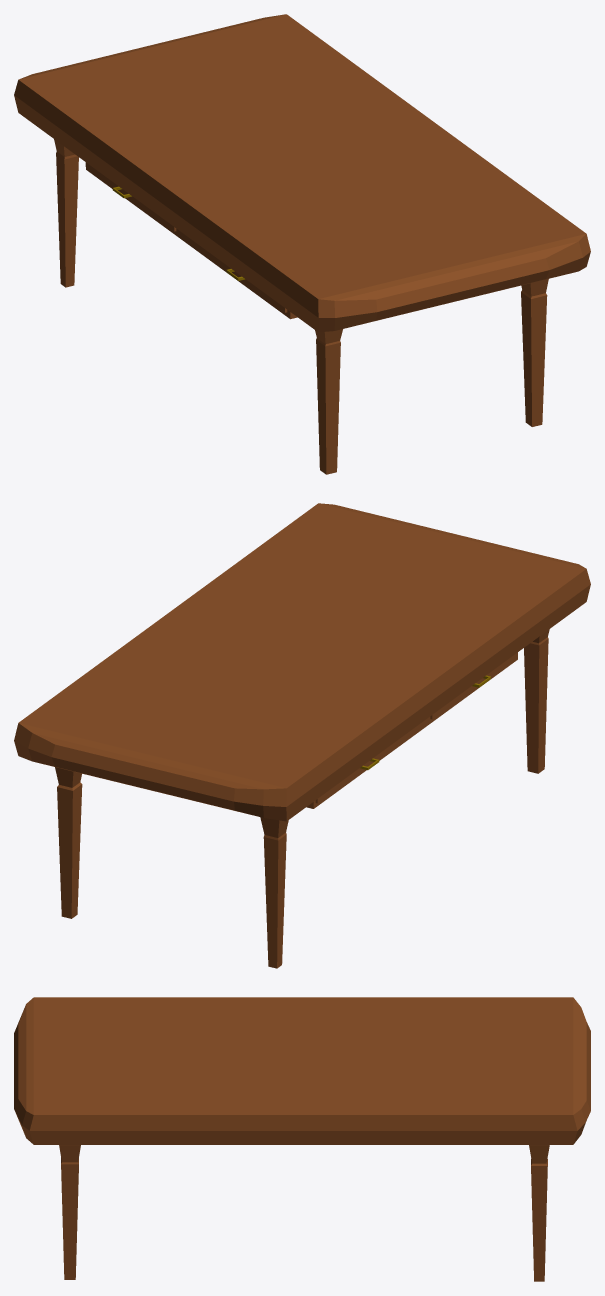
Rendered from mesaLarga.fbx.
3 renders of one model, top to bottom at view 1: azimuth 30°, elevation 25°; view 2: azimuth 150°, elevation 25°; view 3: azimuth 270°, elevation 25°, orthographic. The views are drawn at different scales.
Visible parts, largest first — view 1: table; view 2: table; view 3: table.
Part boxes in pixels (x1=…): table: x1=14, y1=14, x2=590, y2=474; table: x1=14, y1=503, x2=590, y2=968; table: x1=14, y1=997, x2=590, y2=1281.
Size of the model in its own units: 1.46 by 1.02 by 2.98.
